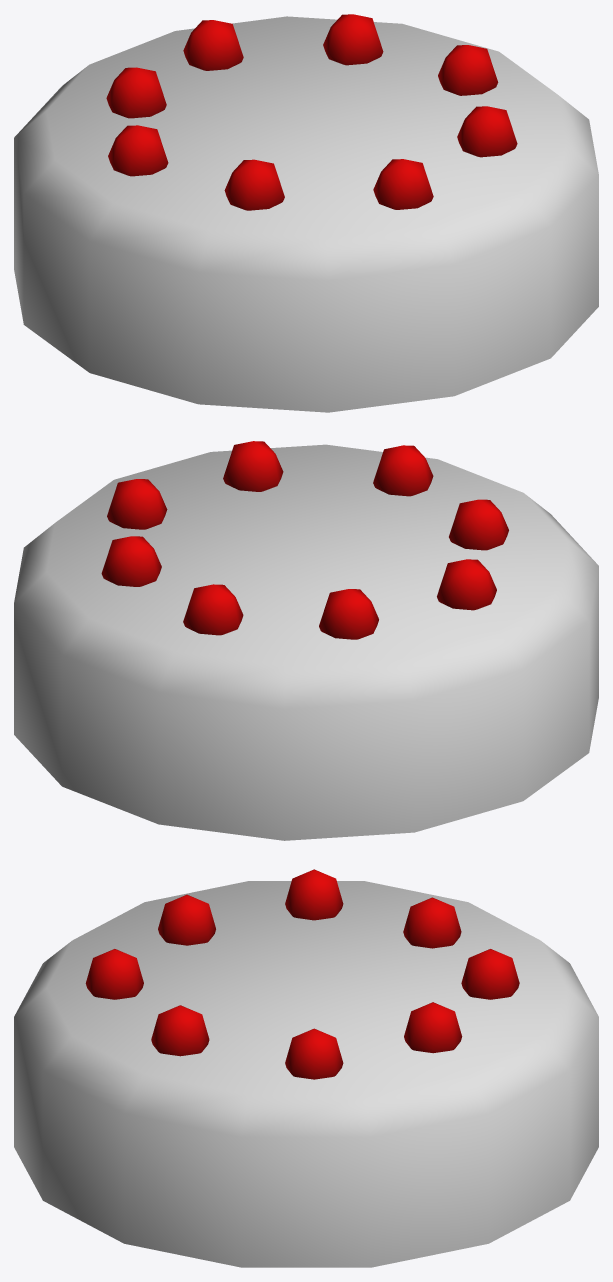
The model's file is Cake_Regular.fbx.
3 renders of one model, top to bottom at view 1: azimuth 30°, elevation 25°; view 2: azimuth 150°, elevation 25°; view 3: azimuth 270°, elevation 25°, orthographic.
Parts seen in each view (by area): view 1: Cake_Regular; view 2: Cake_Regular; view 3: Cake_Regular.
Boxes of the visible parts, x1=… form: Cake_Regular: x1=14, y1=14, x2=598, y2=412; Cake_Regular: x1=14, y1=441, x2=598, y2=840; Cake_Regular: x1=14, y1=869, x2=598, y2=1267.
Bounding box in the file's own units: 63.32 × 24.21 × 64.94.
